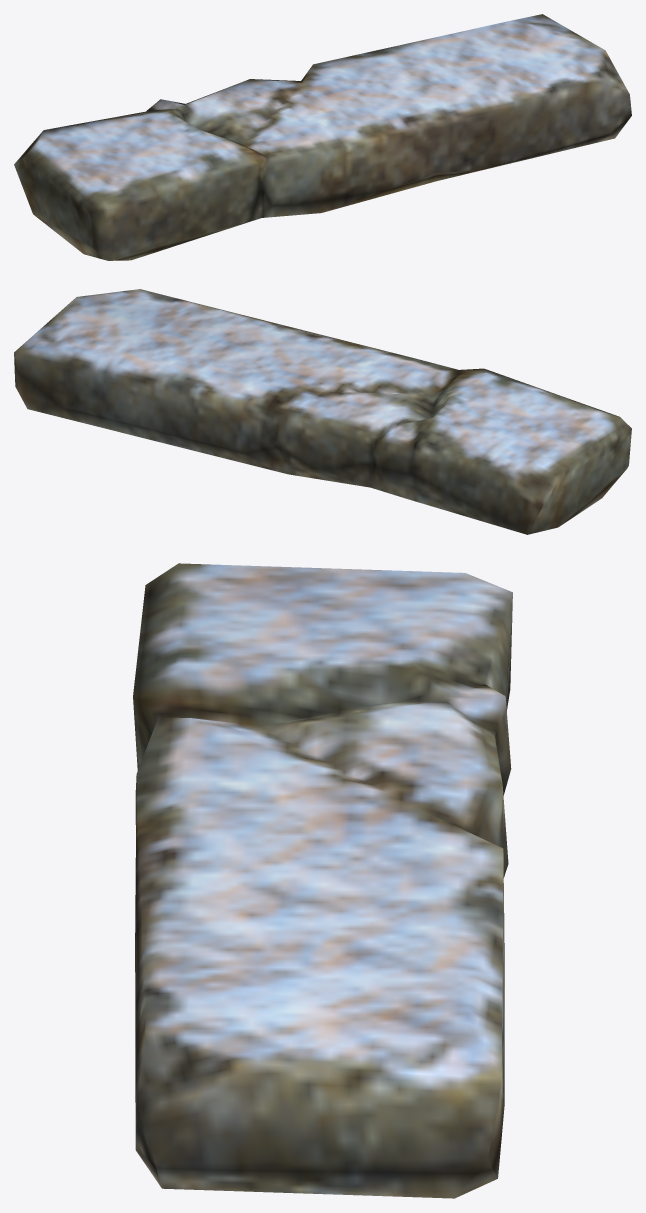
Rendered from SM_EN_2007_shitou11.FBX.
3 views of the same model, one above another, from view 1: azimuth 30°, elevation 25°; view 2: azimuth 150°, elevation 25°; view 3: azimuth 270°, elevation 25° (orthographic). The views are drawn at different scales.
Visible parts, largest first — view 1: SM_EN_2007_shitou11; view 2: SM_EN_2007_shitou11; view 3: SM_EN_2007_shitou11.
Part boxes in pixels (x1,y1,x2,y2): SM_EN_2007_shitou11: [14, 14, 631, 260]; SM_EN_2007_shitou11: [14, 289, 631, 534]; SM_EN_2007_shitou11: [133, 563, 512, 1198].
Size of the model in its own units: 202 by 28.9 by 61.83.
